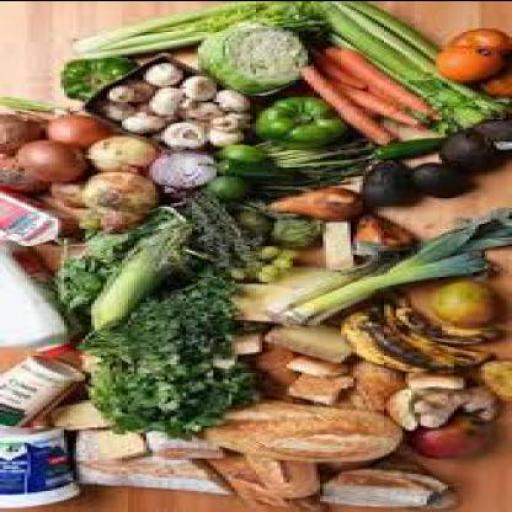biodegradable: (259, 202, 509, 326), (76, 276, 258, 432), (308, 1, 510, 127), (64, 0, 320, 54), (202, 399, 400, 458), (88, 208, 183, 326), (70, 429, 225, 490), (34, 230, 146, 313), (156, 182, 259, 268), (328, 43, 442, 118), (338, 303, 463, 370), (192, 18, 305, 92), (201, 450, 329, 511), (293, 62, 390, 142), (376, 302, 494, 366), (382, 288, 500, 342), (314, 464, 460, 507), (329, 79, 430, 127), (250, 94, 336, 144), (347, 211, 409, 278), (323, 137, 445, 171), (259, 318, 356, 360), (405, 382, 493, 427), (433, 25, 509, 77), (72, 166, 158, 211), (250, 136, 356, 172), (402, 411, 488, 455), (73, 126, 152, 173), (58, 51, 132, 98), (143, 144, 220, 188), (241, 450, 320, 492), (259, 185, 360, 217), (424, 279, 494, 324), (344, 358, 406, 408), (360, 154, 418, 205), (12, 136, 82, 178), (213, 141, 290, 178), (196, 156, 302, 182), (34, 108, 104, 147), (402, 159, 476, 195), (280, 368, 350, 402), (436, 123, 490, 166), (304, 46, 362, 86), (144, 428, 222, 457), (86, 200, 152, 230), (92, 426, 150, 459), (0, 151, 49, 190), (46, 397, 107, 426), (248, 344, 290, 386), (0, 112, 42, 154), (378, 386, 417, 428), (265, 212, 317, 243), (472, 358, 509, 398), (280, 352, 344, 374), (156, 118, 207, 145), (466, 117, 508, 149), (42, 178, 88, 207), (140, 82, 178, 116), (400, 367, 464, 386), (254, 376, 296, 404), (226, 206, 268, 232), (202, 171, 244, 197), (171, 94, 213, 120), (478, 63, 509, 98), (104, 79, 152, 101), (207, 86, 247, 110), (176, 73, 214, 98), (0, 94, 52, 112), (142, 58, 180, 82), (226, 326, 259, 352), (204, 123, 244, 143), (98, 98, 131, 117), (272, 242, 298, 258), (253, 258, 284, 271), (204, 114, 235, 127), (320, 43, 345, 57), (253, 243, 277, 257), (222, 264, 244, 279), (220, 108, 246, 120), (268, 255, 290, 267), (82, 352, 95, 368), (253, 270, 268, 280)
cardboard: (0, 183, 76, 242)
plastic: (0, 239, 74, 353), (0, 237, 76, 345), (0, 424, 76, 505), (0, 352, 82, 425), (43, 342, 67, 352)
